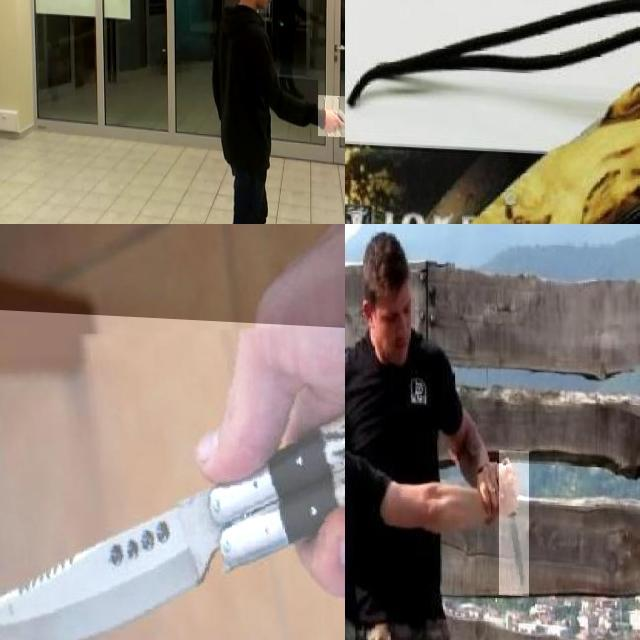-: (0, 307, 345, 640), (499, 446, 529, 592)
gun-knife-thesis - v11 Yolov5 augmented: (318, 90, 345, 132)
